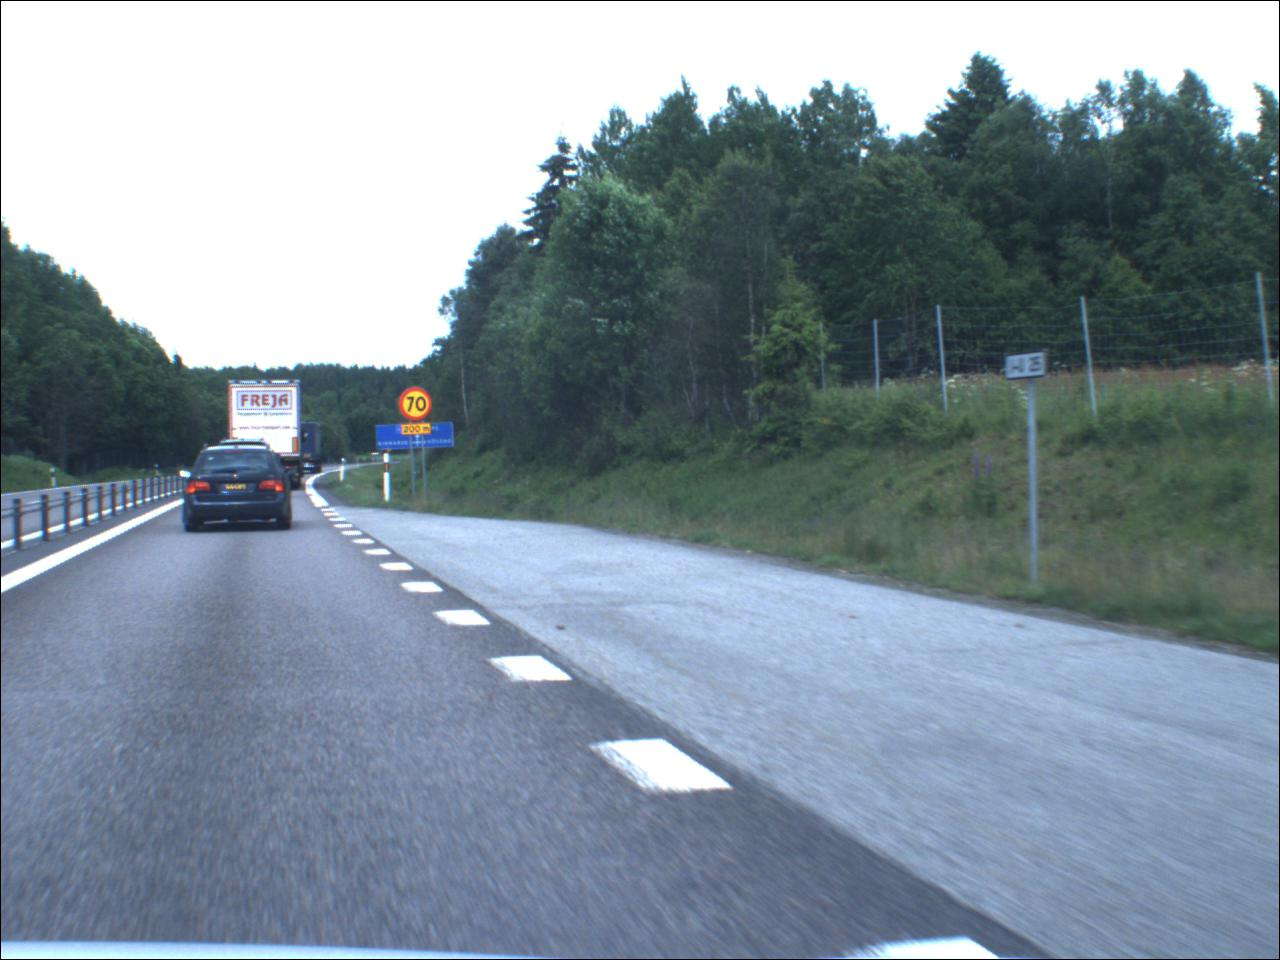70_SIGN: (400, 389, 436, 425)
